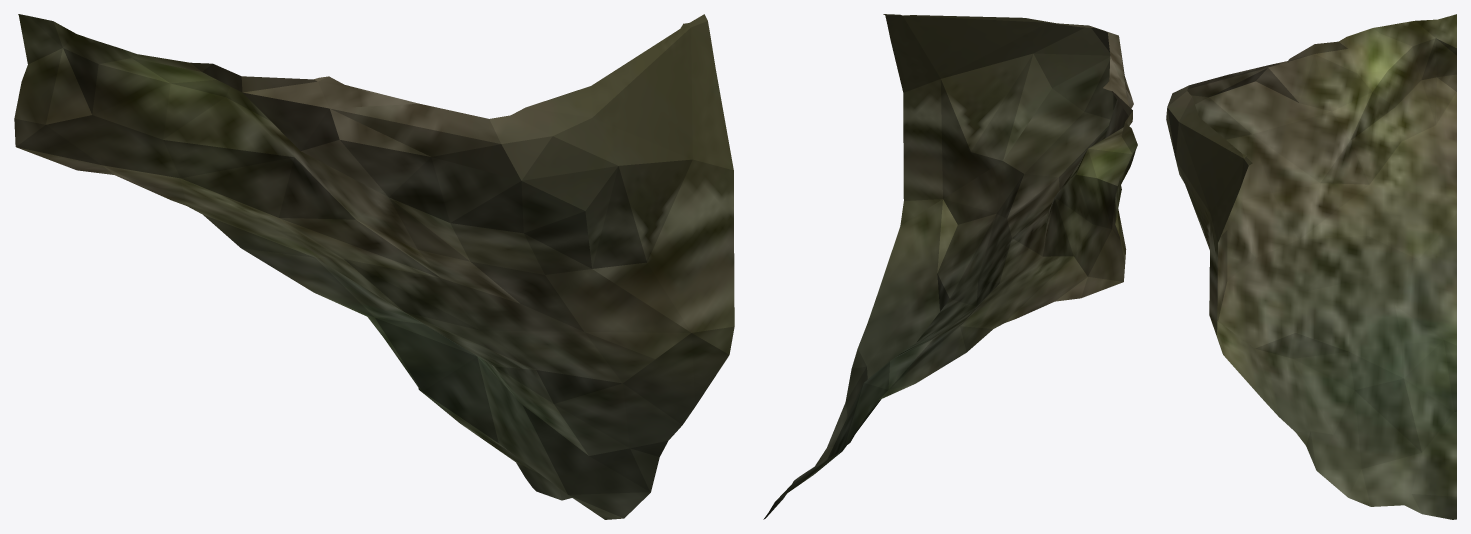
3 renders of one model, left to right at view 1: azimuth 30°, elevation 25°; view 2: azimuth 150°, elevation 25°; view 3: azimuth 270°, elevation 25°, orthographic. The views are drawn at different scales.
Bounding box in the file's own units: 0.9015 × 0.9978 × 0.7368.
1 material, 1 textured.
